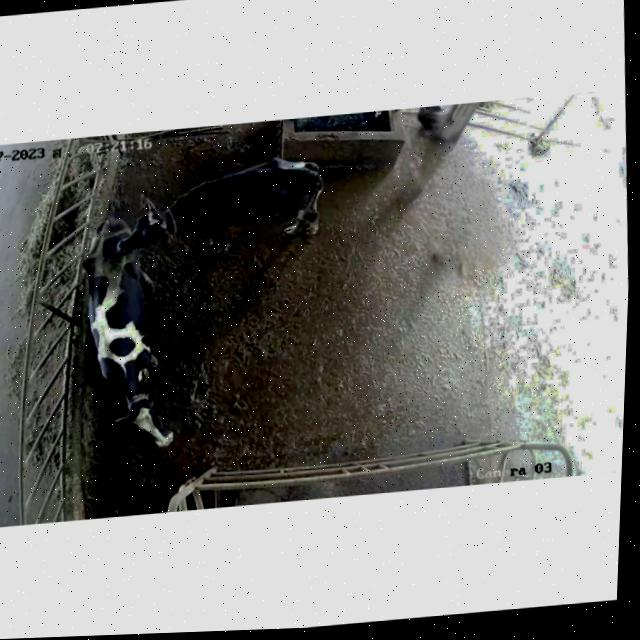propping: (90, 195, 213, 275)
stand: (70, 200, 194, 463)
